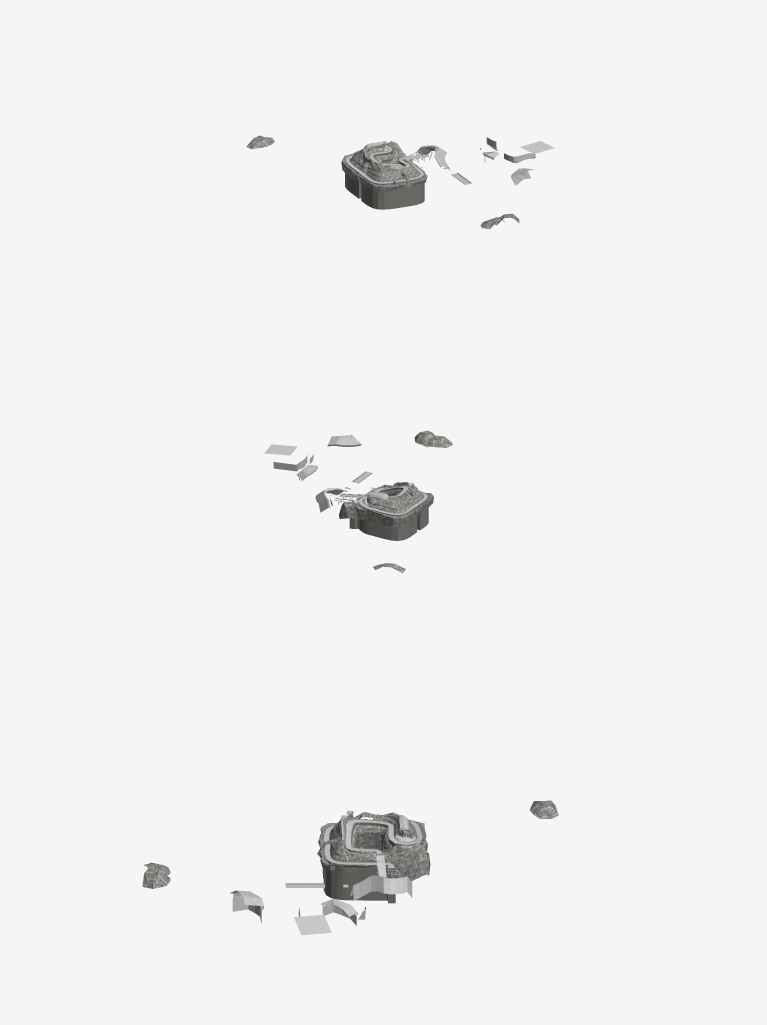
File: track.glb
The picture shows the model from 3 angles, top to bottom: view 1: azimuth 30°, elevation 25°; view 2: azimuth 150°, elevation 25°; view 3: azimuth 270°, elevation 25°; orthographic projection. The views are drawn at different scales.
Parts seen in each view (by area): view 1: mesh_13, mesh_10, mesh_12, mesh_16; view 2: mesh_13, mesh_12, mesh_10, mesh_16; view 3: mesh_13, mesh_12, mesh_10, mesh_16, mesh_6.
Boxes of the visible parts, x1=… form: mesh_13: x1=246, y1=135, x2=519, y2=229; mesh_10: x1=345, y1=150, x2=424, y2=209; mesh_12: x1=345, y1=140, x2=534, y2=185; mesh_16: x1=486, y1=137, x2=554, y2=162; mesh_13: x1=339, y1=430, x2=452, y2=572; mesh_12: x1=296, y1=434, x2=428, y2=515; mesh_10: x1=349, y1=487, x2=428, y2=540; mesh_16: x1=264, y1=444, x2=313, y2=471; mesh_13: x1=142, y1=800, x2=558, y2=888; mesh_12: x1=230, y1=810, x2=423, y2=916; mesh_10: x1=322, y1=822, x2=423, y2=903; mesh_16: x1=294, y1=907, x2=365, y2=935; mesh_6: x1=232, y1=823, x2=356, y2=925.
Bounding box in the file's own units: 1377 × 126 × 1358.
9 materials, 9 textured.
